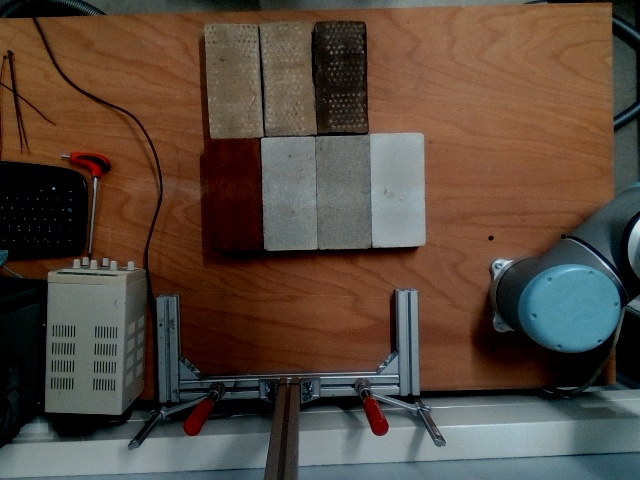brick: (313, 134, 371, 249), (203, 25, 262, 138), (258, 23, 315, 136), (259, 138, 316, 249), (369, 133, 425, 245), (313, 21, 366, 132), (208, 140, 261, 249)
